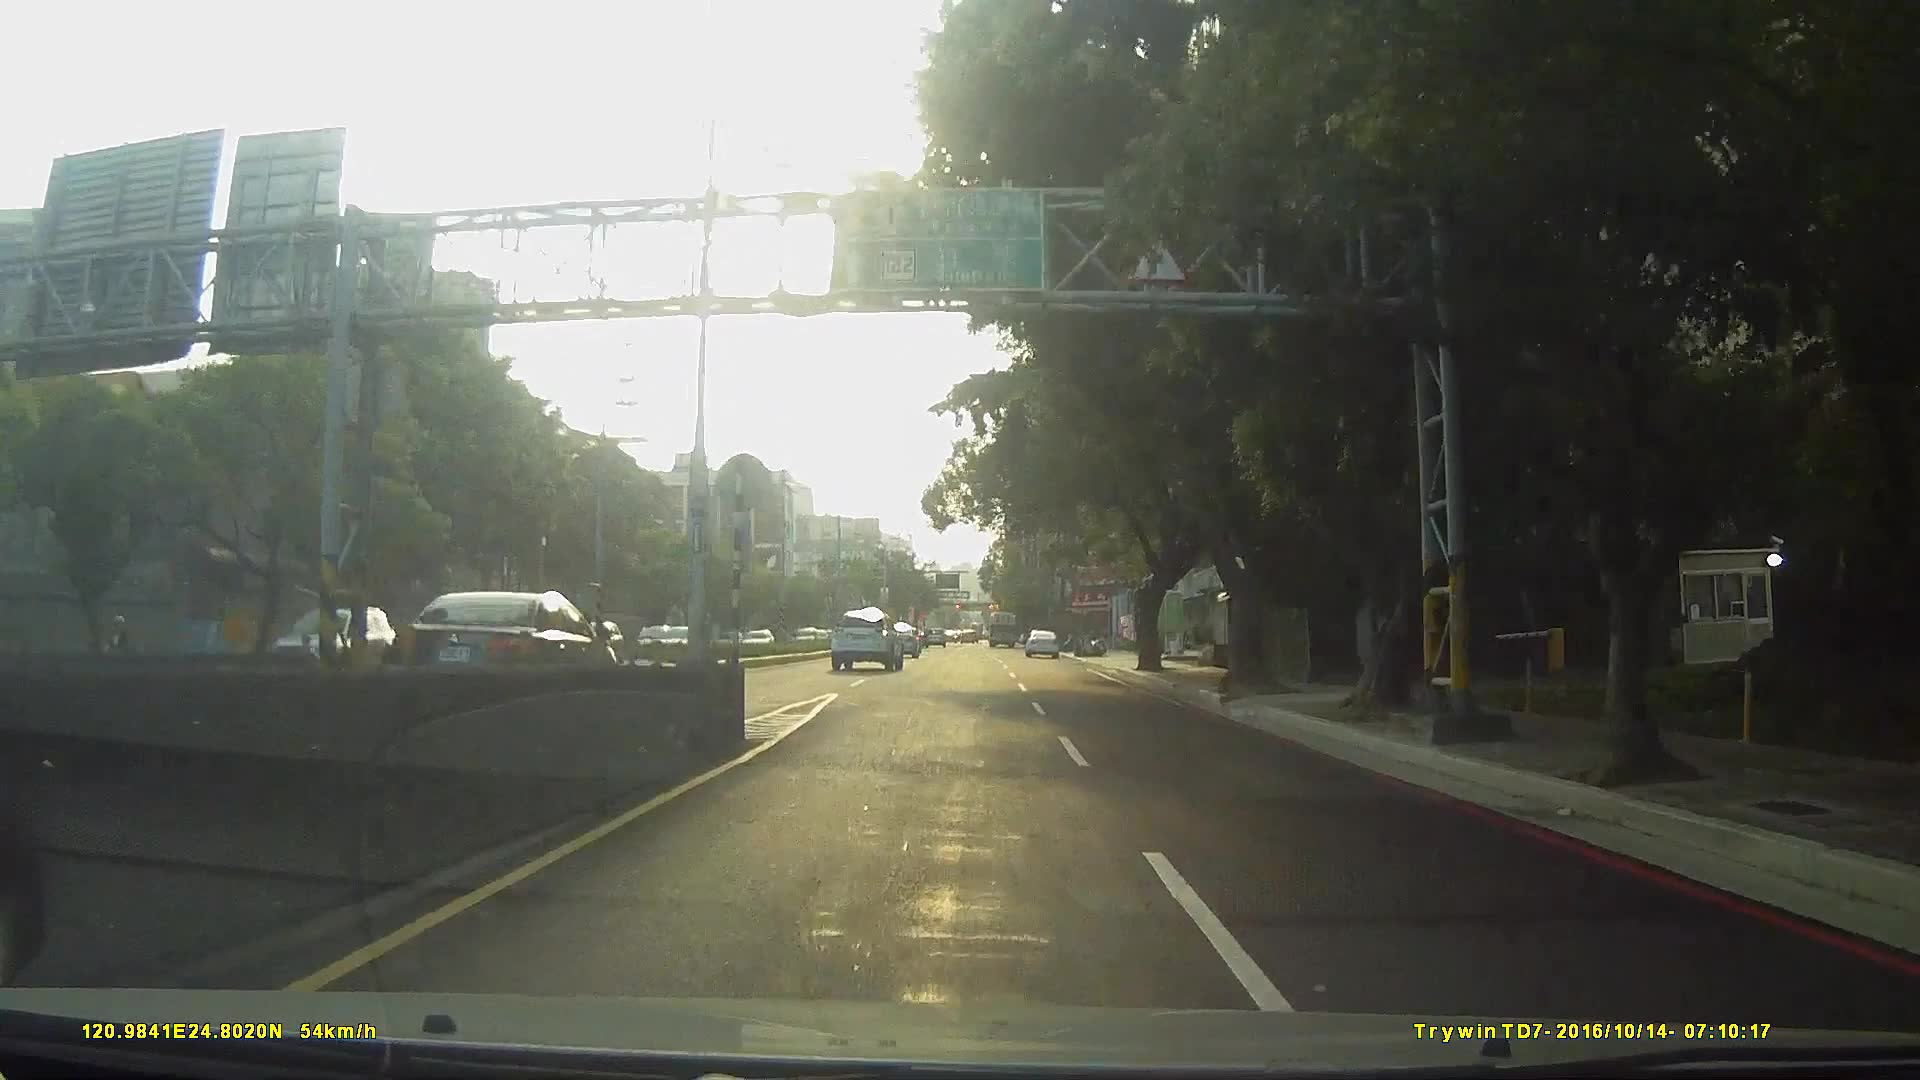vehicle: (386, 588, 622, 700), (828, 608, 905, 673), (882, 625, 920, 659), (986, 611, 1018, 649), (1022, 628, 1060, 658)
